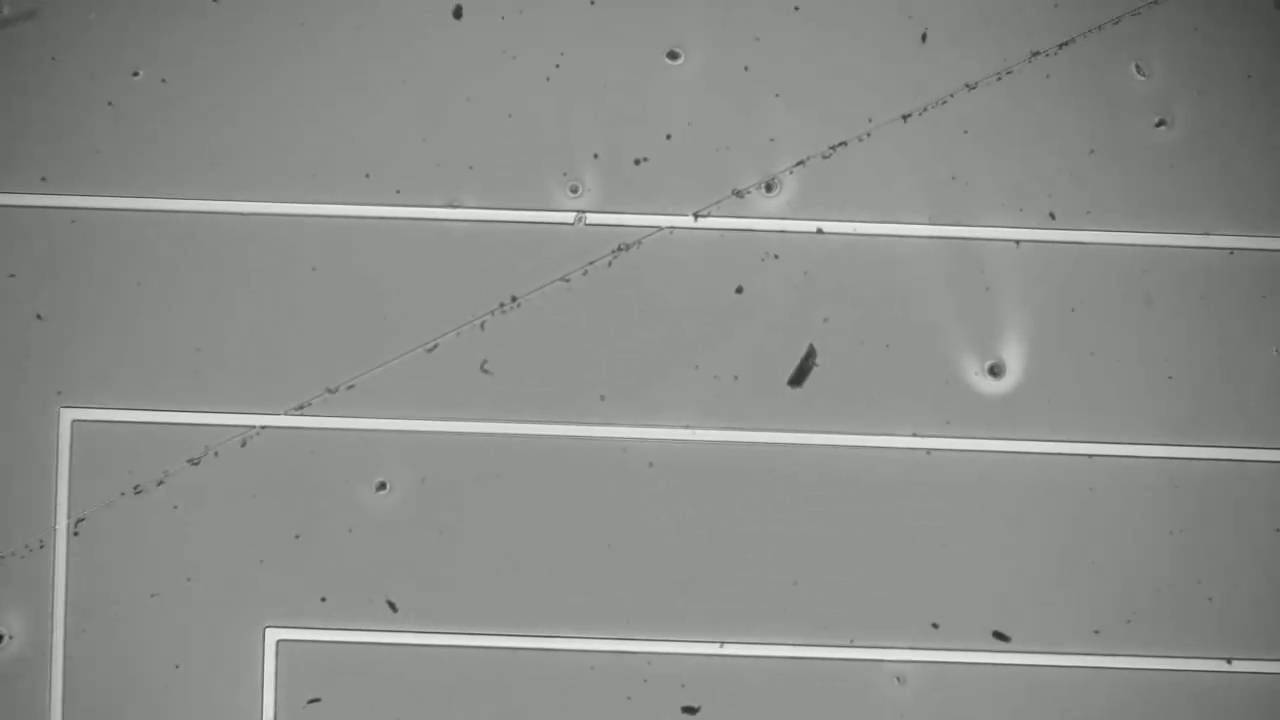open: (569, 197, 593, 228)
scratch: (23, 1, 1196, 554)
